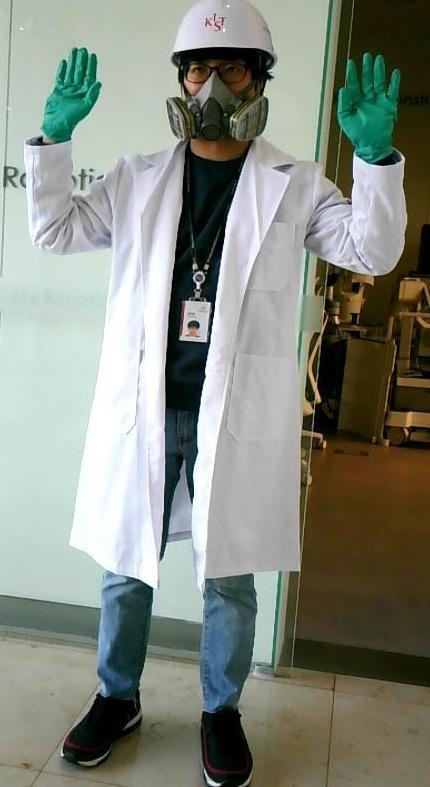lab_coat: (89, 165, 319, 572)
